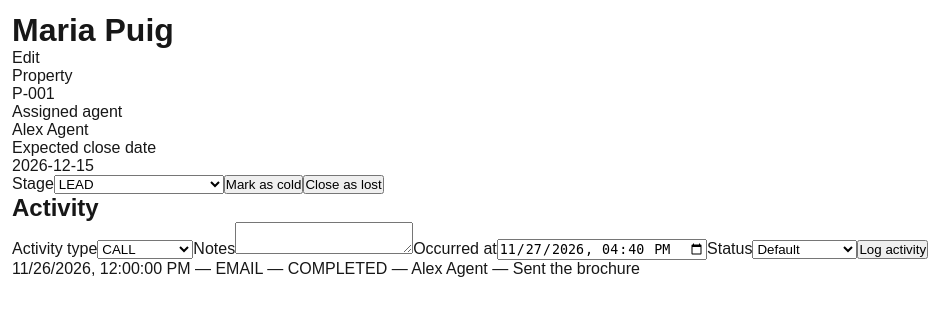
Deal detail view › orders activities by occurred-at, not by when they were logged
The width and height of the screenshot is (945, 312).
Expected: the link "Maria Puig" is shown, [12, 12, 174, 48]
In the text box labelled "Notes": {"x": 324, "y": 238} [235, 222, 413, 254], type "An earlier call, logged late"
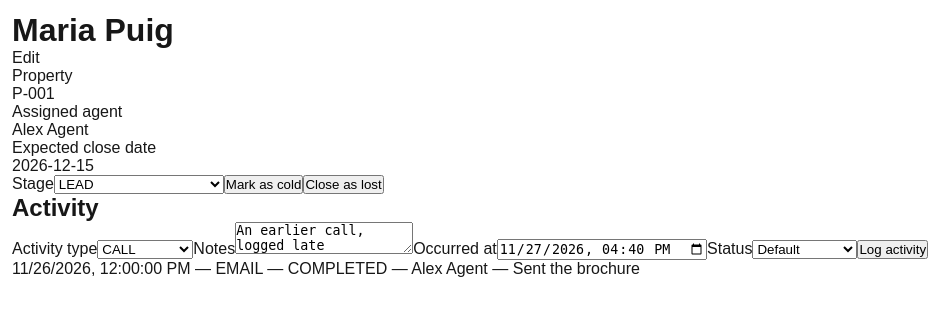
Click the button "Log activity": {"x": 893, "y": 250} [857, 240, 928, 259]
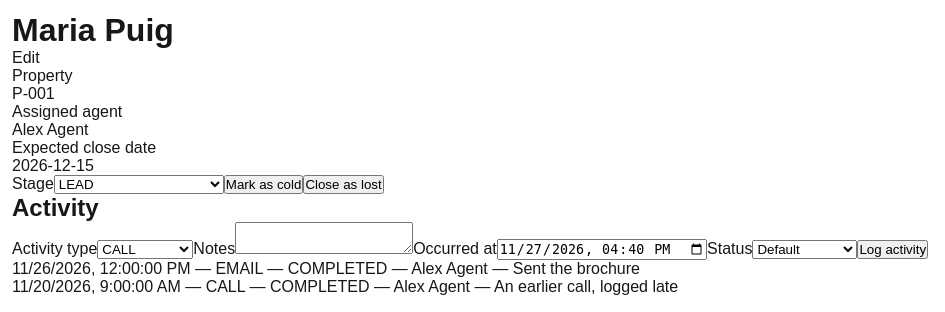
Expected: the list item that starts with "11/26/2026, 12:00:00 PM" shows "Sent the brochure", [513, 260, 640, 277]
Result: the number of list items is 2 at [12, 260, 640, 277]; [12, 278, 678, 295]
Result: the list item that starts with "11/20/2026, 9:00:00 AM" shows "An earlier call, logged late" at [494, 278, 678, 295]
